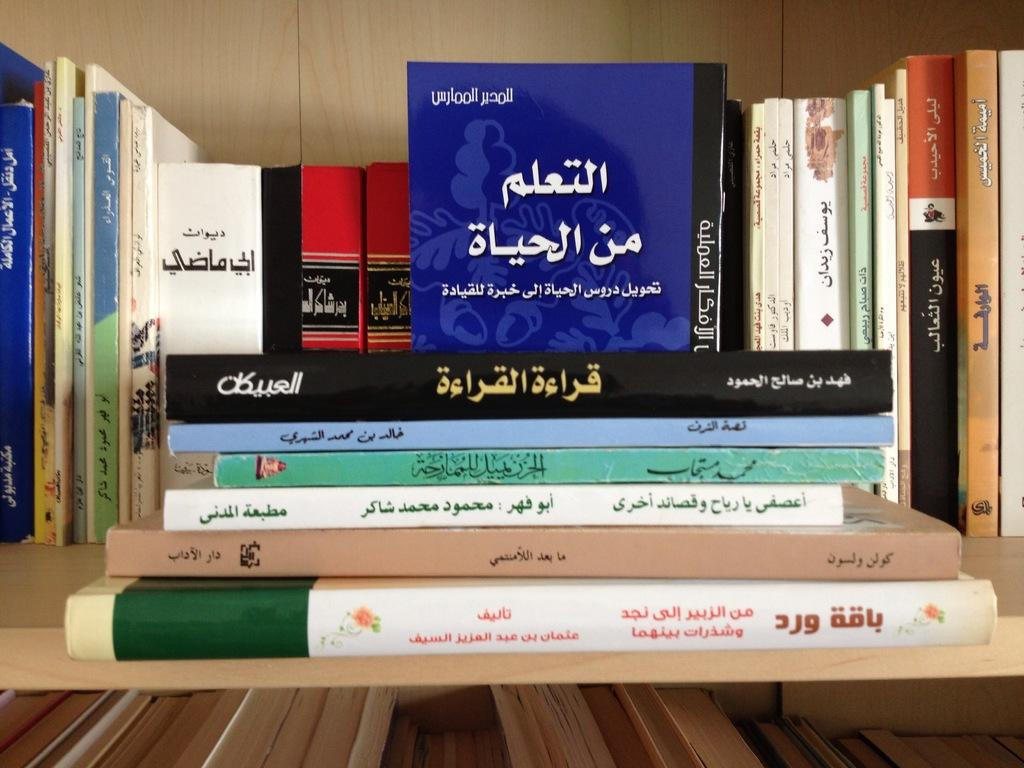Book: (150, 40, 1023, 539), (125, 374, 1024, 668), (0, 38, 220, 552), (0, 684, 1023, 767)
